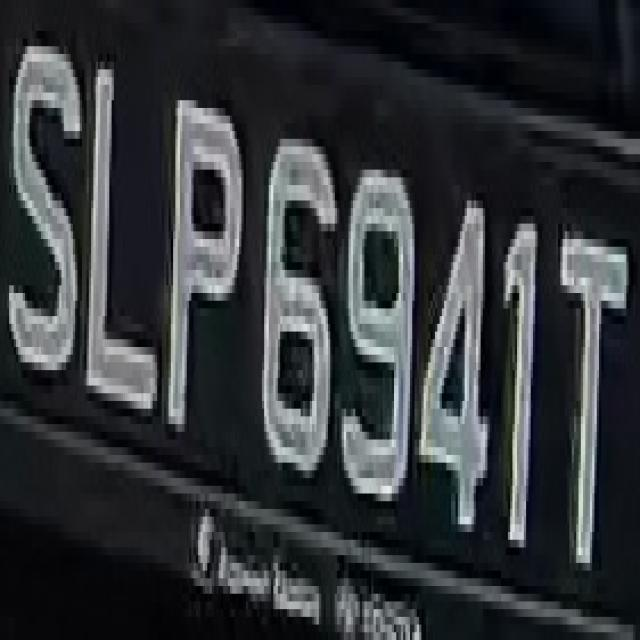1: (499, 170, 544, 624)
4: (424, 146, 501, 540)
6: (262, 85, 339, 524)
9: (342, 131, 421, 524)
L: (86, 38, 168, 432)
P: (166, 70, 244, 448)
S: (7, 23, 84, 424)
T: (546, 177, 628, 594)
